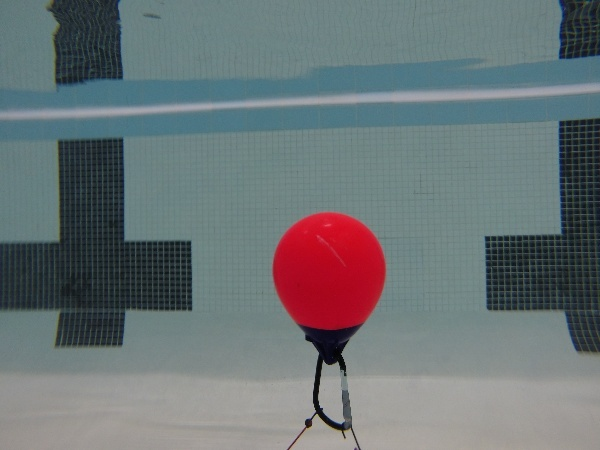buoy_red: (272, 210, 386, 366)
